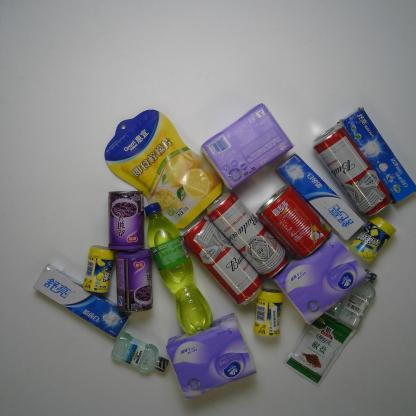Alcohol: (312, 124, 394, 218), (181, 215, 265, 306), (207, 190, 290, 279)
Canned Food: (255, 183, 333, 261), (115, 248, 154, 314), (107, 190, 146, 253)
Dried Fruit: (104, 109, 224, 230)
Drink: (143, 201, 214, 336)
Gum: (347, 214, 398, 265), (82, 245, 116, 294), (252, 288, 285, 338)
Personal Hygiene: (274, 150, 366, 242), (336, 105, 416, 205), (32, 262, 132, 339), (332, 269, 378, 330), (110, 331, 169, 373)
Seasoner: (281, 310, 358, 388)
Tissue: (272, 234, 368, 326), (200, 102, 295, 190), (165, 312, 258, 401)
